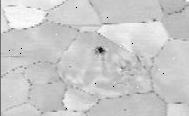good_void: (93, 46, 105, 56)
